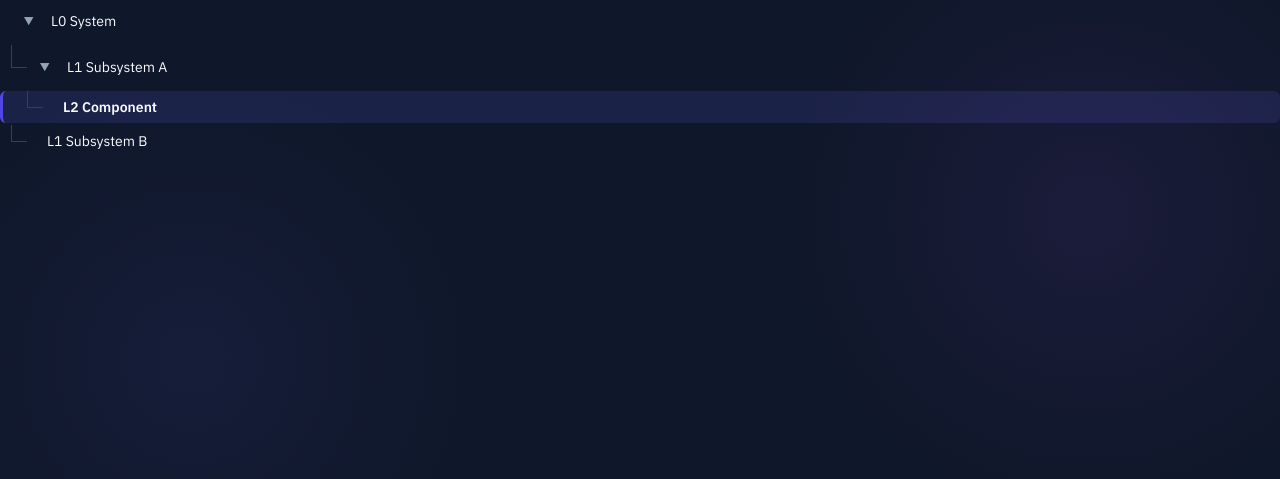
WorkspaceTree — reveals an externally made selection (#665) › does not re-expand a path the user collapsed by hand
Expected: the list item with test id "workspace-tree-node-grandchild" is shown, [0,91,1279,123]
Click the button with test id "workspace-tree-toggle-child1" at [45, 67], box [27,49,63,85]
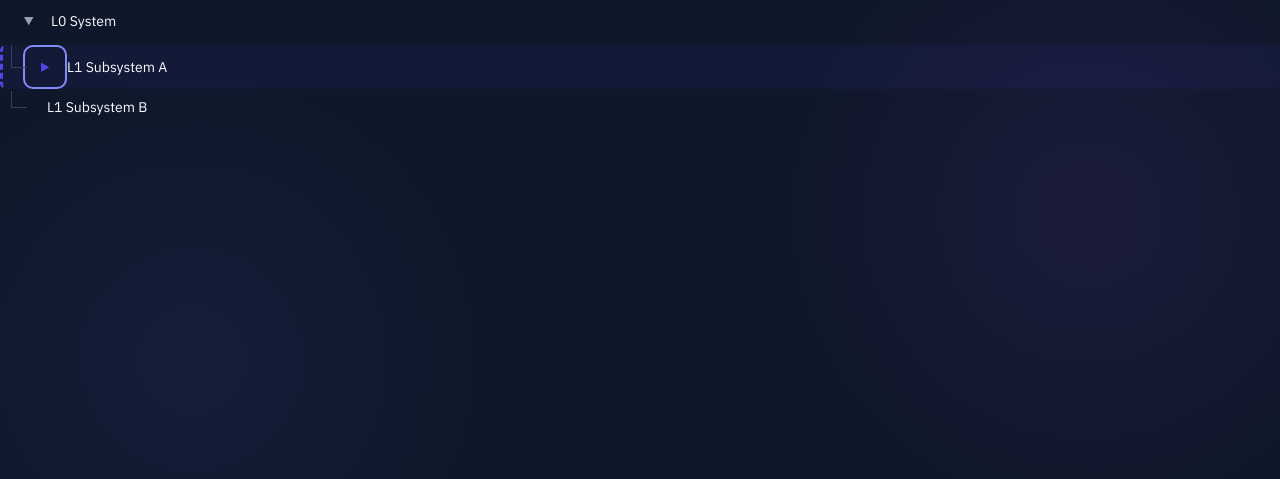
Expected: the list item with test id "workspace-tree-node-grandchild" is gone
